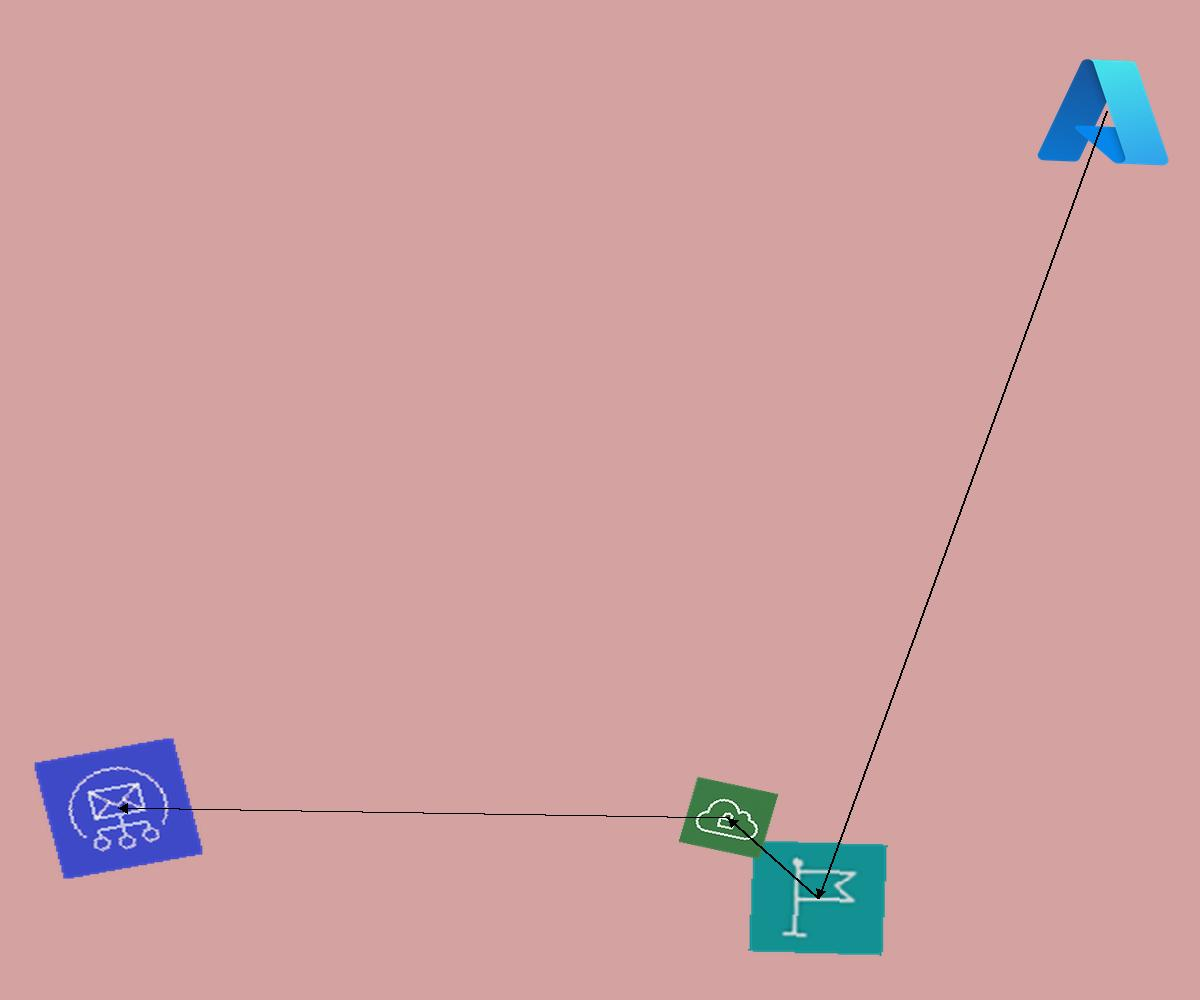AWS-Private_vpc: (678, 776, 779, 860)
AWS-Region: (748, 840, 888, 956)
AWS-Simple-Email-Service: (33, 737, 204, 880)
Azure_services: (1031, 49, 1181, 174)
